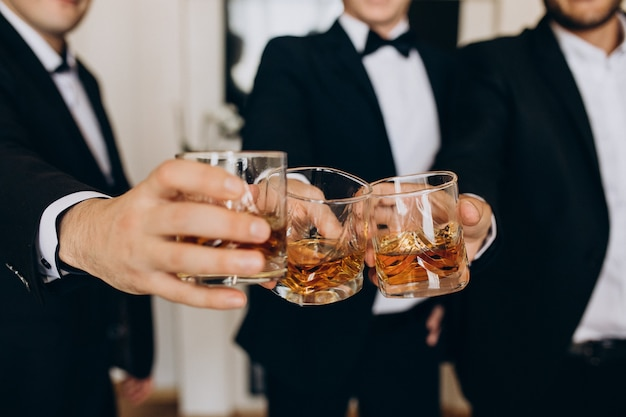alcohol: (170, 146, 288, 289), (258, 163, 368, 309), (366, 169, 469, 300)
